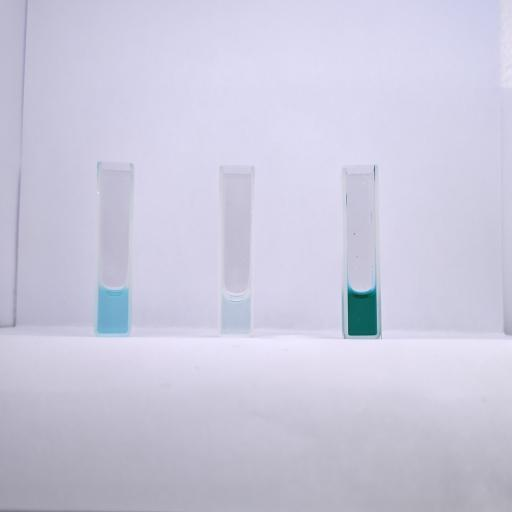cuvette: (340, 162, 384, 340), (93, 158, 136, 338), (216, 163, 256, 339)
liquid: (98, 286, 128, 332), (348, 289, 377, 335), (221, 292, 250, 334)
